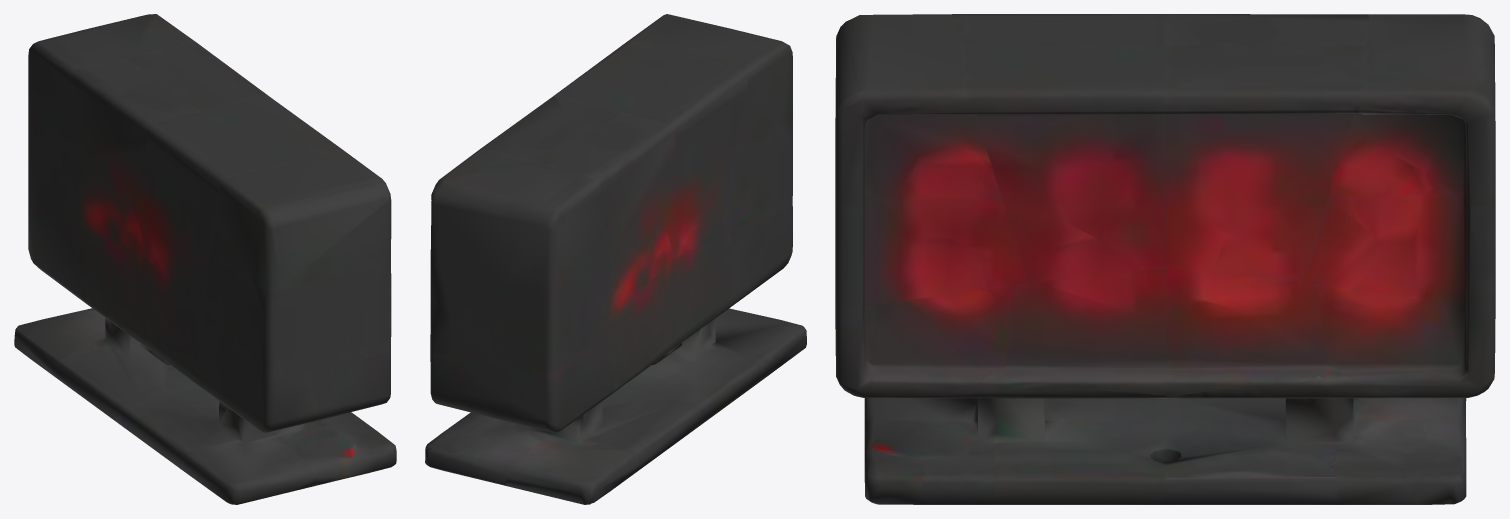
The model's file is timing-display.glb.
3 renders of one model, left to right at view 1: azimuth 30°, elevation 25°; view 2: azimuth 150°, elevation 25°; view 3: azimuth 270°, elevation 25°, orthographic. The views are drawn at different scales.
Parts seen in each view (by area): view 1: tripo_node_5808522d-7c9a-4c97-9df1-aa5978e54bf4; view 2: tripo_node_5808522d-7c9a-4c97-9df1-aa5978e54bf4; view 3: tripo_node_5808522d-7c9a-4c97-9df1-aa5978e54bf4.
Boxes of the visible parts, x1,y1,x2,y2 form: tripo_node_5808522d-7c9a-4c97-9df1-aa5978e54bf4: [14, 14, 396, 504]; tripo_node_5808522d-7c9a-4c97-9df1-aa5978e54bf4: [425, 14, 806, 504]; tripo_node_5808522d-7c9a-4c97-9df1-aa5978e54bf4: [835, 14, 1495, 504].
Bounding box in the file's own units: 0.4036 × 0.6732 × 0.9999.
1 material, 1 textured.
